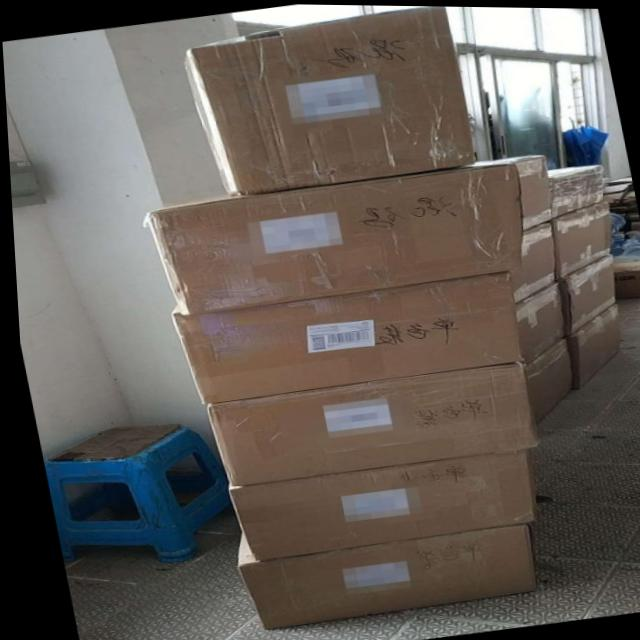box: (137, 159, 519, 314), (178, 5, 472, 195), (165, 272, 522, 404), (200, 360, 533, 484), (220, 448, 531, 559), (227, 522, 527, 631), (560, 248, 621, 337), (510, 338, 575, 421), (550, 197, 611, 281), (485, 151, 549, 231), (563, 301, 621, 382), (516, 278, 567, 356), (508, 220, 557, 298), (546, 165, 603, 215)
